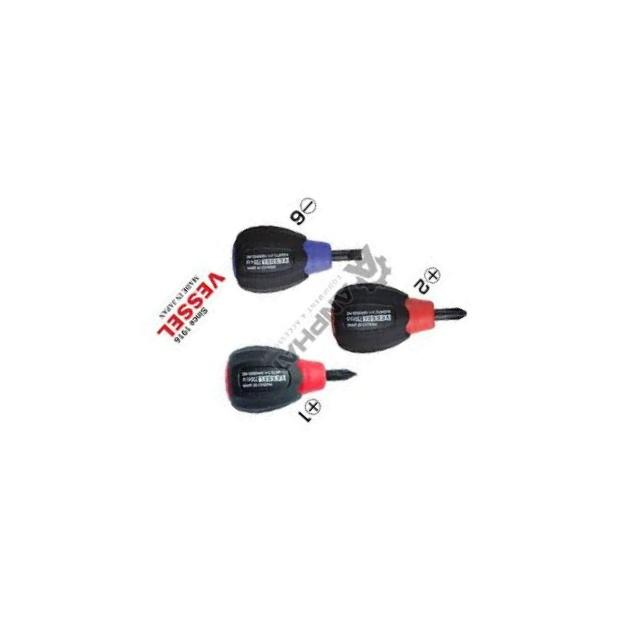screwdriver: (305, 233, 471, 400), (198, 296, 360, 457), (210, 178, 368, 336)
